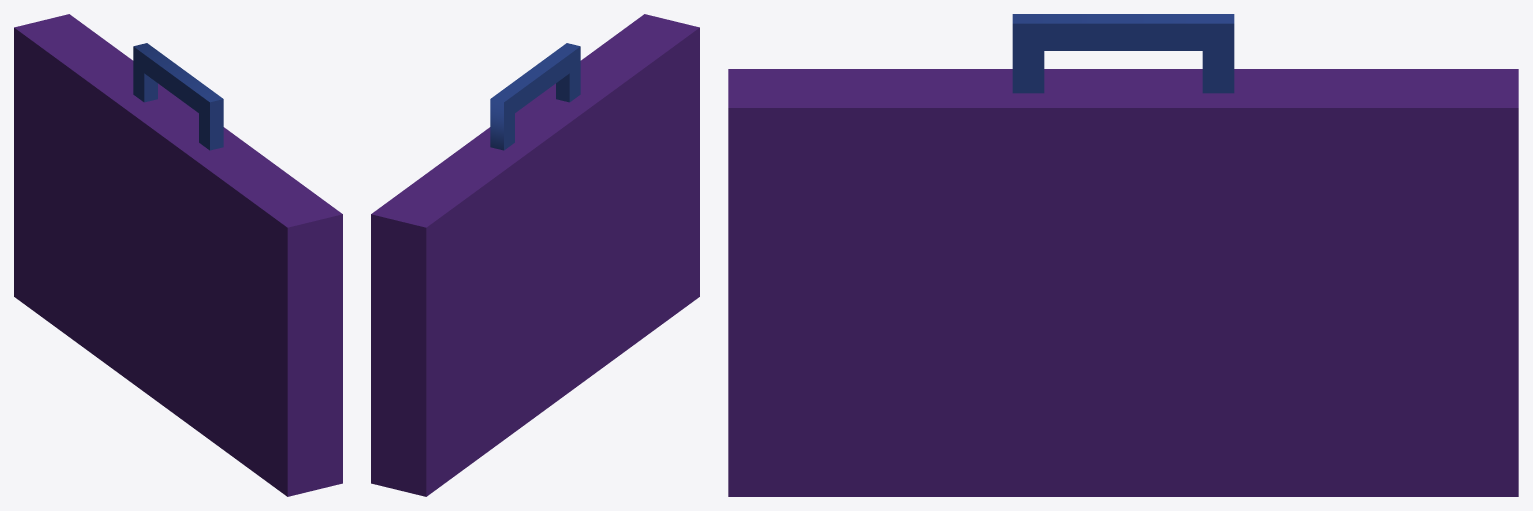
File: brefcase2.fbx
The picture shows the model from 3 angles, left to right: view 1: azimuth 30°, elevation 25°; view 2: azimuth 150°, elevation 25°; view 3: azimuth 270°, elevation 25°; orthographic projection. The views are drawn at different scales.
Visible parts, largest first — view 1: brefcase2; view 2: brefcase2; view 3: brefcase2.
Boxes of the visible parts, x1=… form: brefcase2: x1=14, y1=14, x2=342, y2=496; brefcase2: x1=371, y1=14, x2=699, y2=496; brefcase2: x1=728, y1=14, x2=1518, y2=496.
Bounding box in the file's own units: 10.91 × 59.82 × 93.44.
